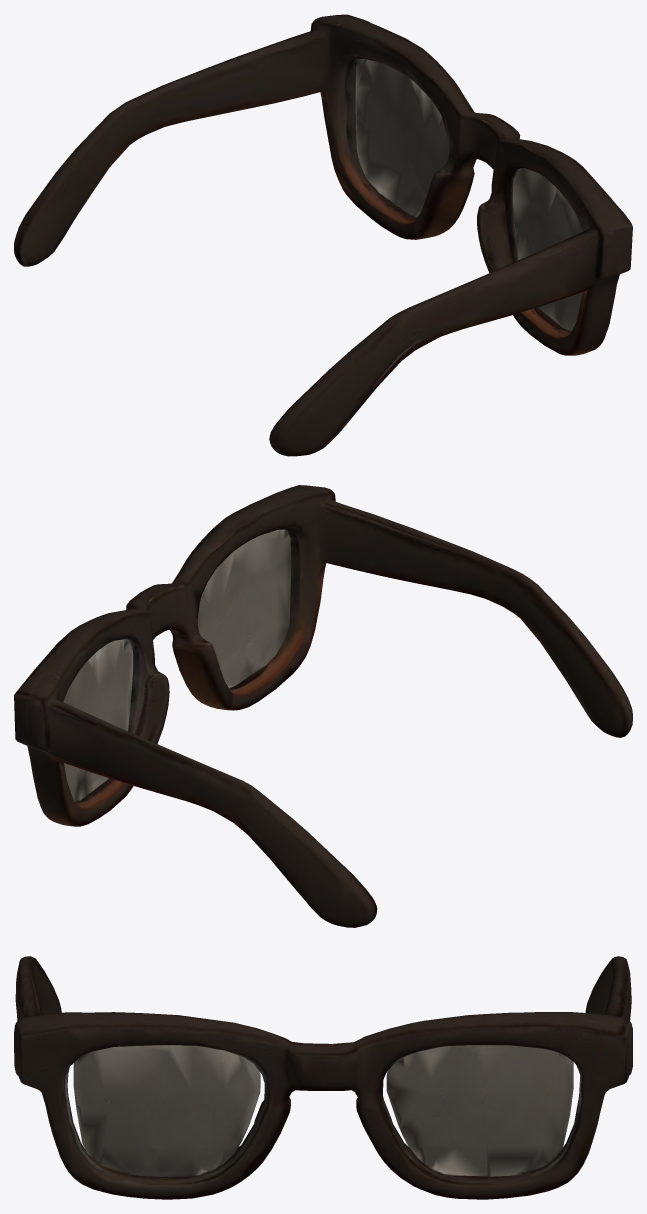
The model's file is glasses.glb.
The picture shows the model from 3 angles, top to bottom: view 1: azimuth 30°, elevation 25°; view 2: azimuth 150°, elevation 25°; view 3: azimuth 270°, elevation 25°; orthographic projection. The views are drawn at different scales.
Visible parts, largest first — view 1: tripo_node_16742cd8-3e2b-40ff-a8f9-864517c0c7cd; view 2: tripo_node_16742cd8-3e2b-40ff-a8f9-864517c0c7cd; view 3: tripo_node_16742cd8-3e2b-40ff-a8f9-864517c0c7cd.
Part boxes in pixels (x1,y1,x2,y2): tripo_node_16742cd8-3e2b-40ff-a8f9-864517c0c7cd: (14, 14, 632, 456); tripo_node_16742cd8-3e2b-40ff-a8f9-864517c0c7cd: (14, 485, 632, 927); tripo_node_16742cd8-3e2b-40ff-a8f9-864517c0c7cd: (14, 956, 632, 1199).
Size of the model in its own units: 0.7193 by 0.3345 by 0.9991.
Materials: 1 (1 with a texture image).
